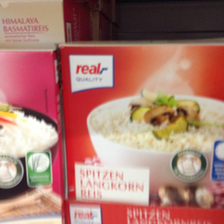rice: (59, 39, 224, 208), (1, 46, 63, 223)
